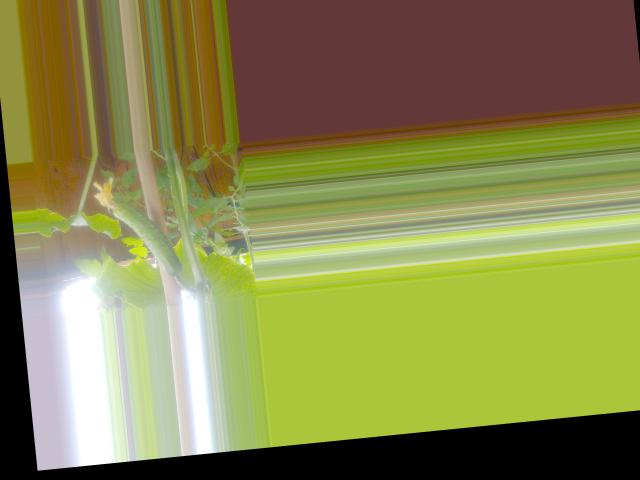cucumber: (91, 170, 182, 283)
